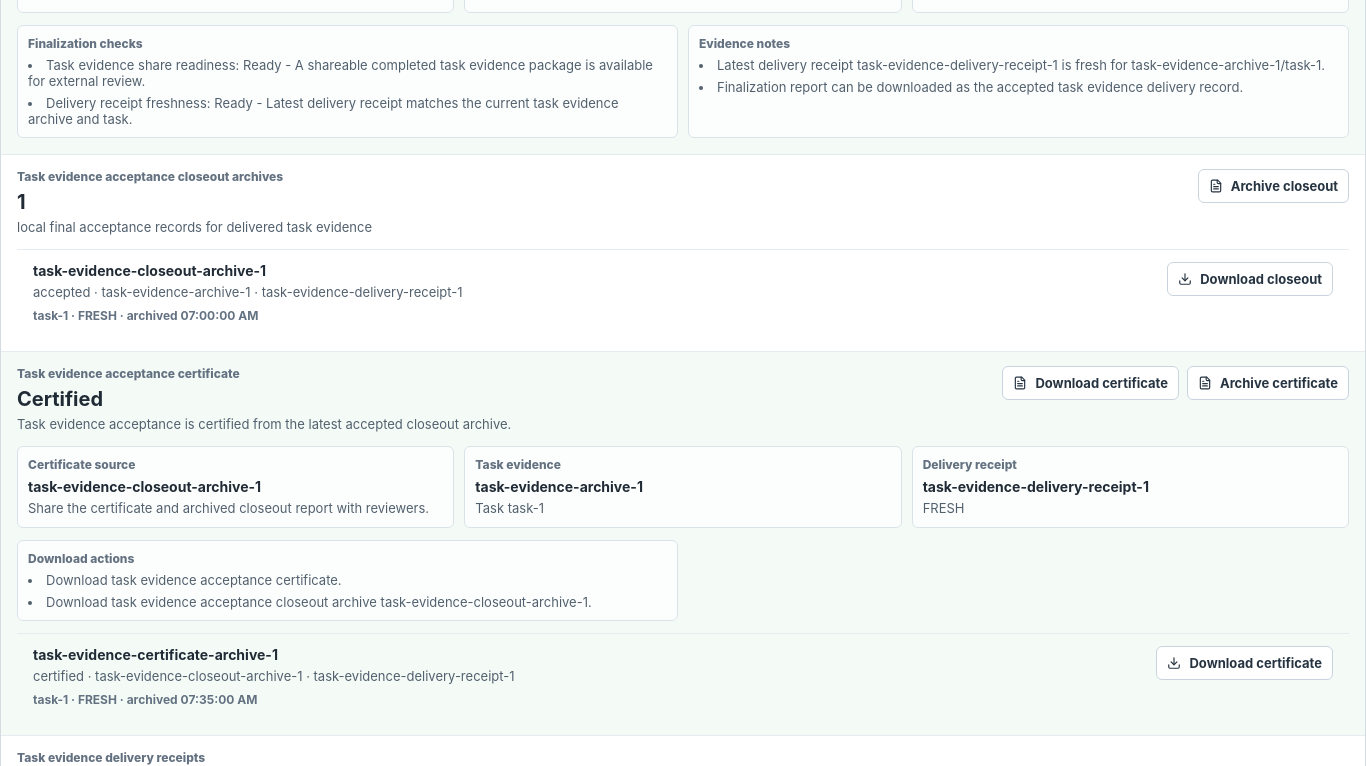
archives and downloads task evidence acceptance certificate from review panel
(page scrolled)
What coordinates should you click on to do the following:
click the button with aria-label "Download task evidence acceptance certificate"
I would click on:
 (1091, 383)
Its box is [1002,366,1179,400].
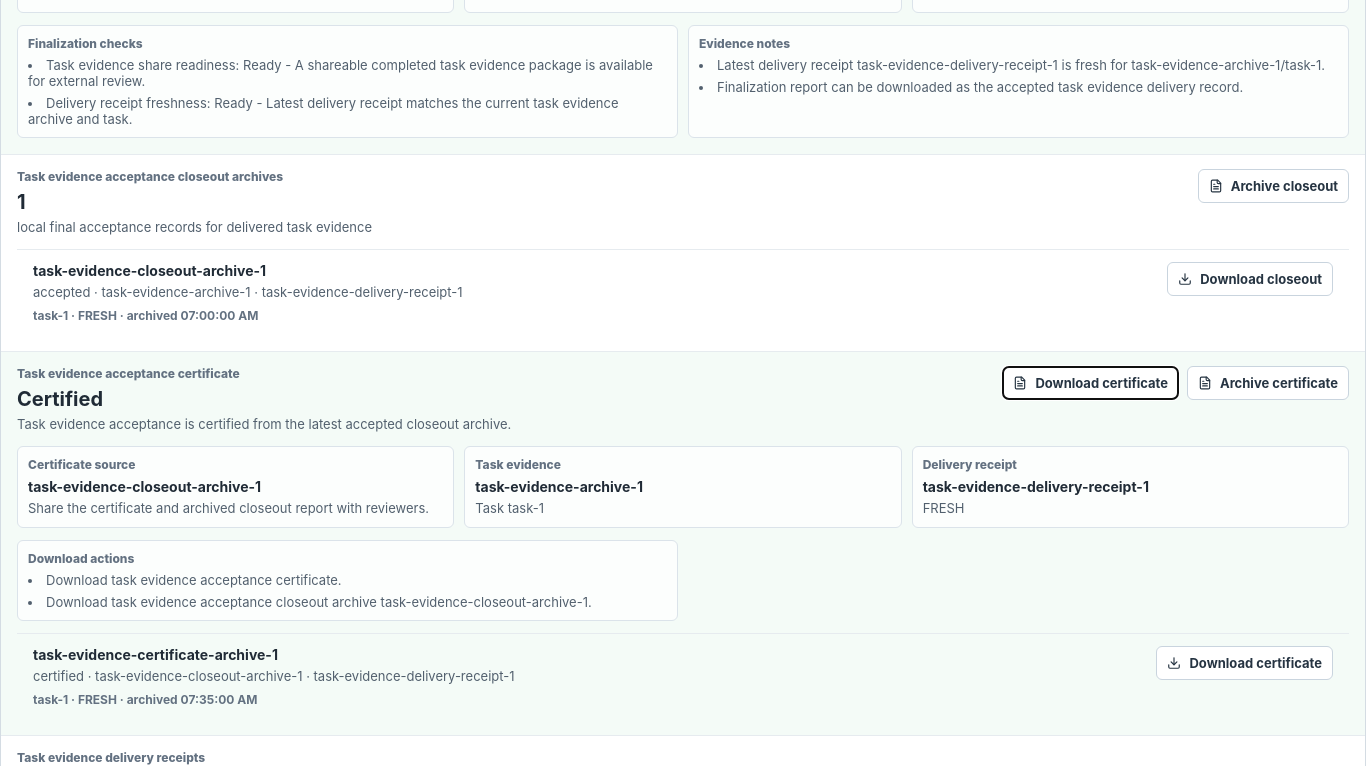
What coordinates should you click on to do the following:
click the button with aria-label "Archive task evidence acceptance certificate"
I would click on:
 (1268, 383)
Its box is [1187,366,1349,400].
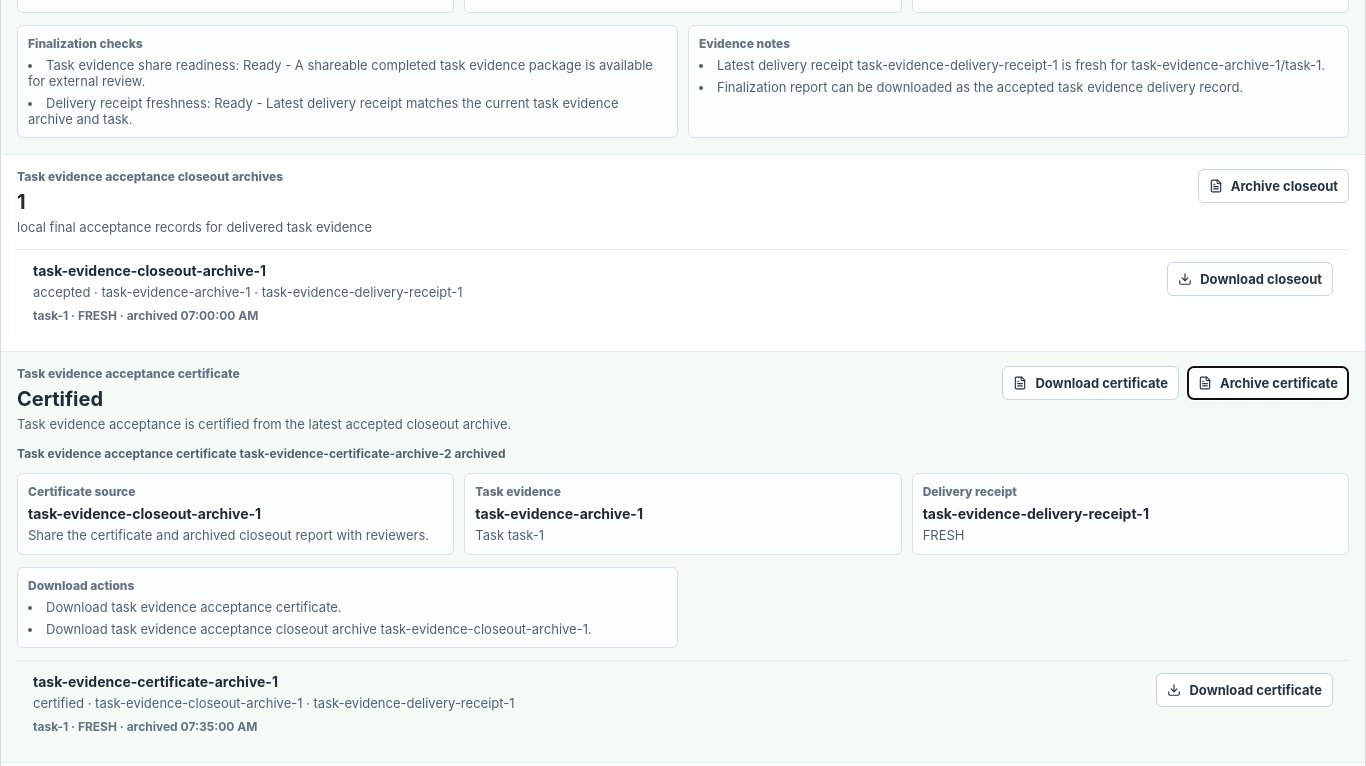
Check: the text "Task evidence acceptance certificate task-evidence-certificate-archive-2 archived" is shown, box [17,446,506,461]
What coordinates should you click on to do the following:
click the button named "Download task evidence acceptance certificate archive task-evidence-certificate-archive-1"
I would click on:
 (1245, 690)
Its box is [1156,673,1333,707].
(page scrolled)
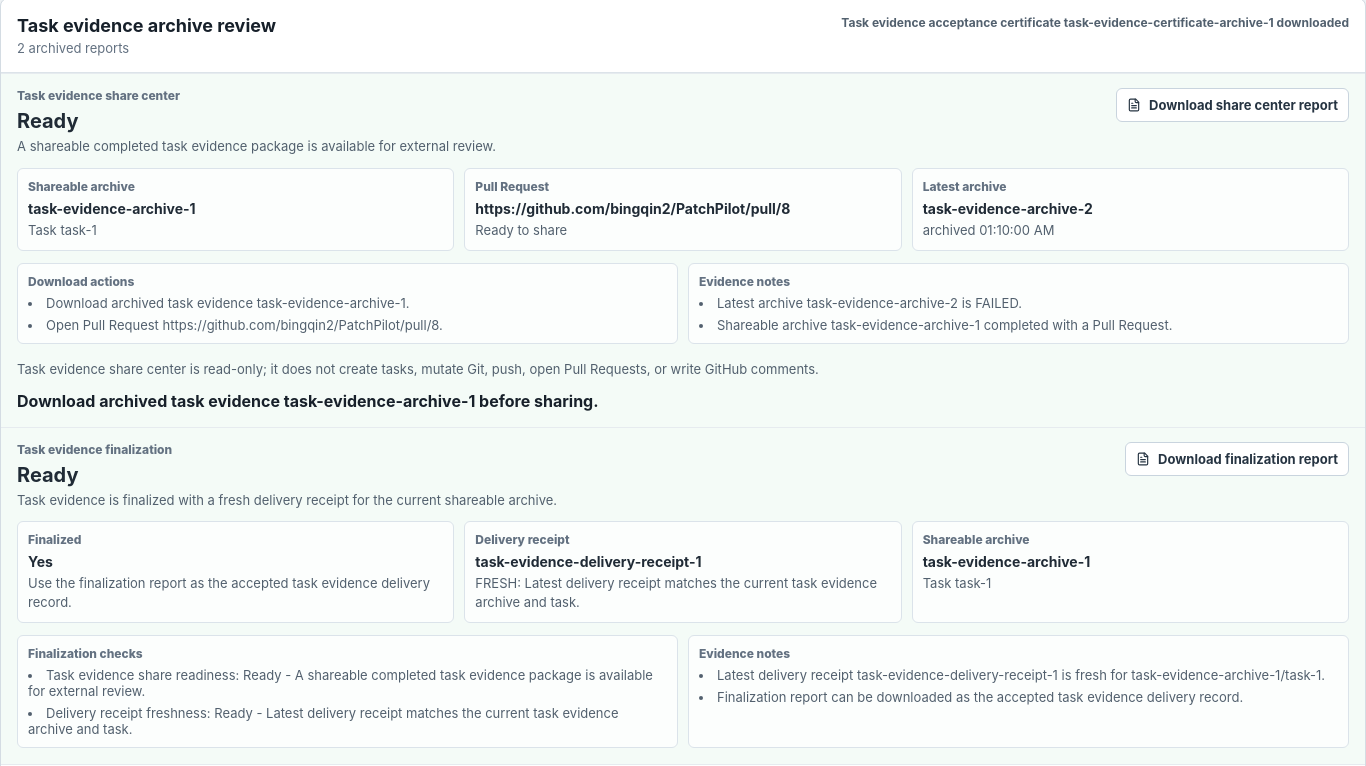
Check: the text "Task evidence acceptance certificate task-evidence-certificate-archive-1 downloaded" is shown, box [841,15,1349,30]
